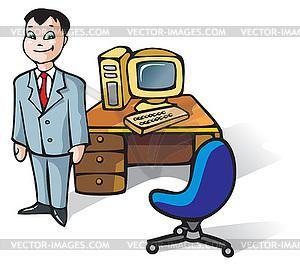chair: (144, 134, 238, 259)
person: (6, 6, 92, 229)
tvmonitor: (95, 44, 185, 113)
